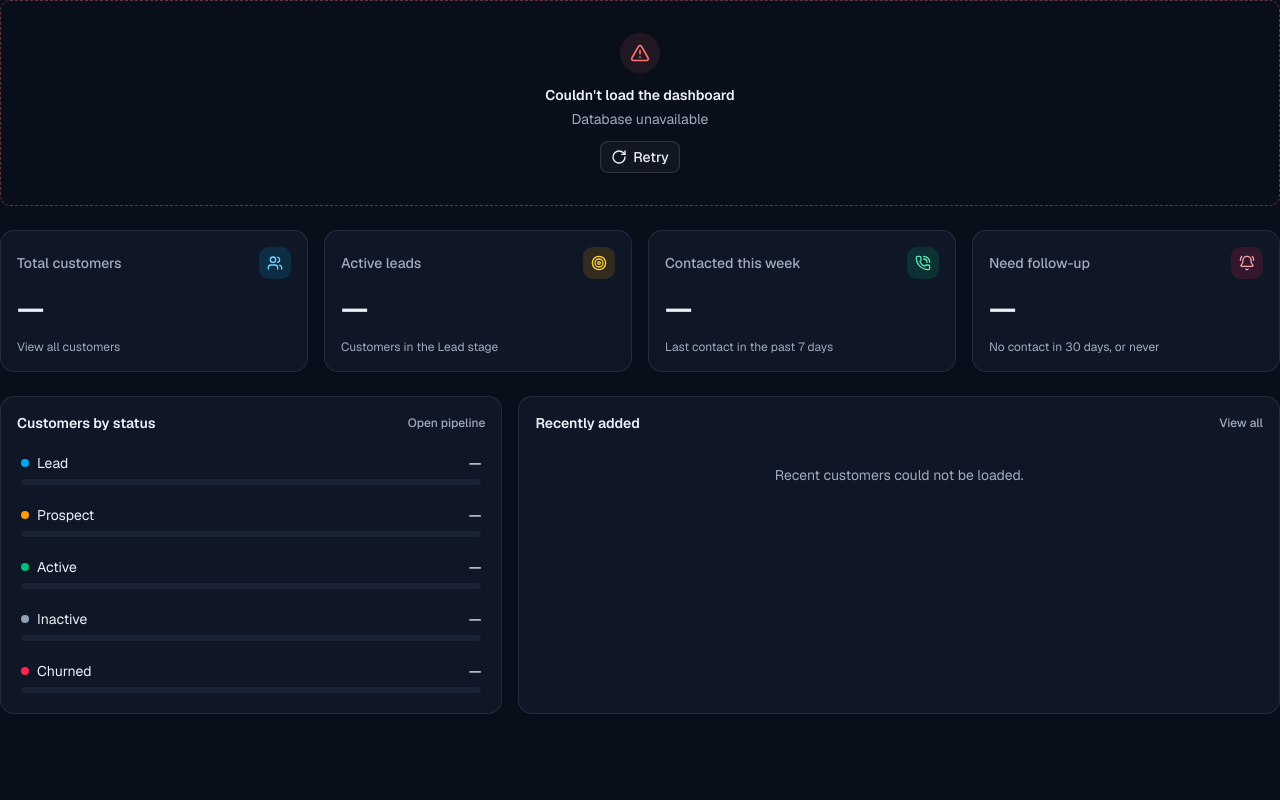
Test case: DashboardView › shows an error with Retry, and recovers
The width and height of the screenshot is (1280, 800).
Expected: the message shows "Couldn't load the dashboard", [545, 86, 735, 104]
Expected: the message shows "Database unavailable", [572, 110, 708, 128]
Click the button "Retry" at (640, 157), box [600, 141, 680, 173]
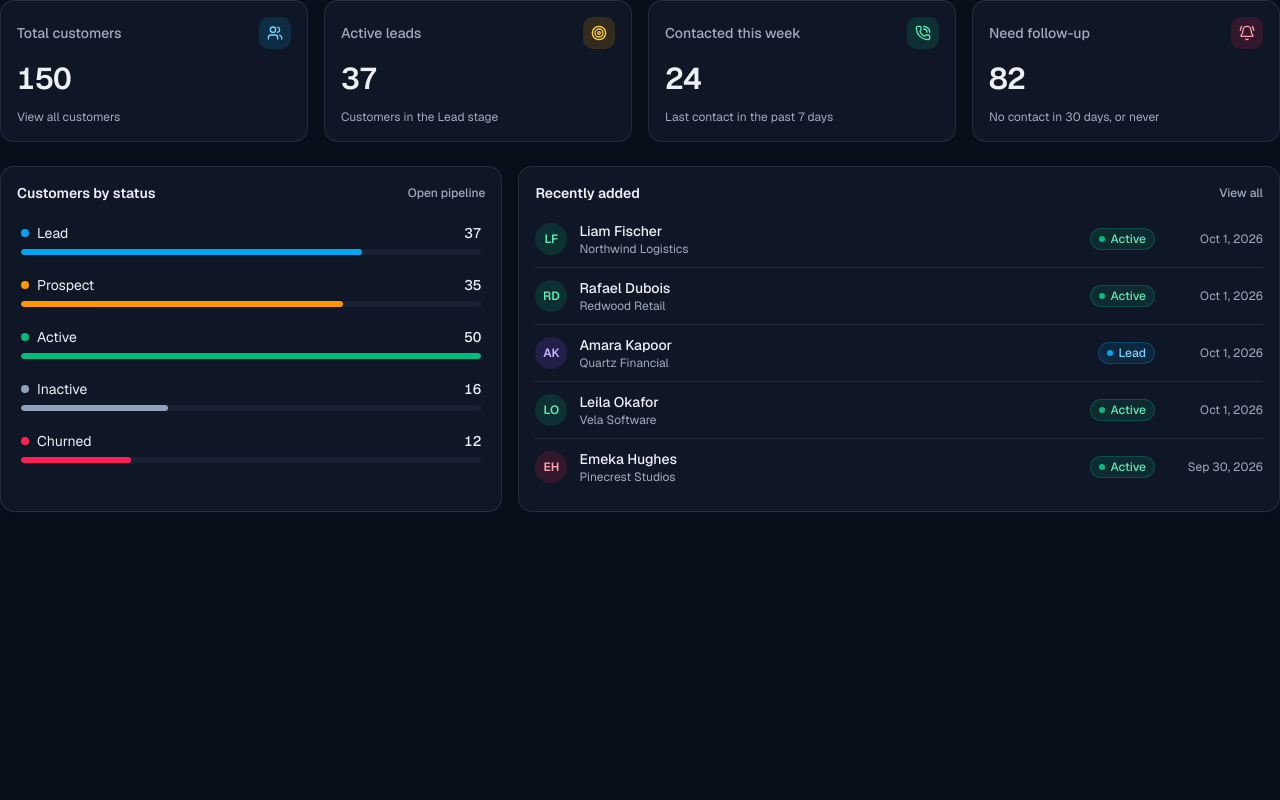
Expected: the message "Couldn't load the dashboard Database unavailable Retry" is gone
